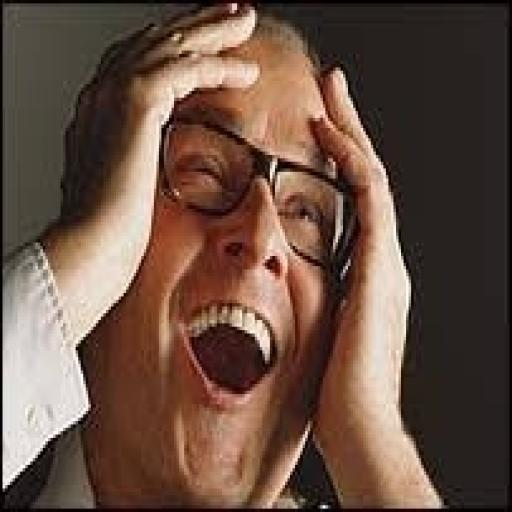laughing: (10, 0, 454, 505)
